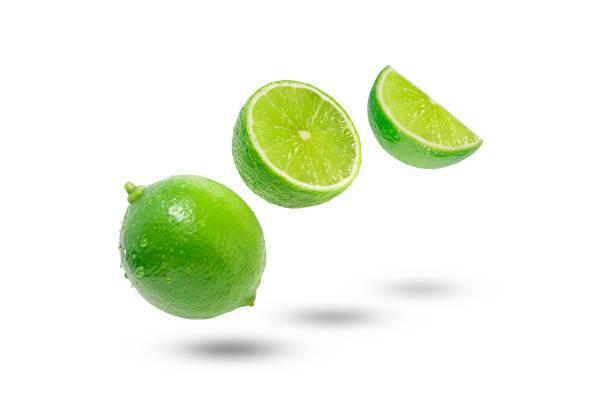lime: (96, 166, 267, 328), (224, 73, 364, 211), (362, 56, 493, 174)
